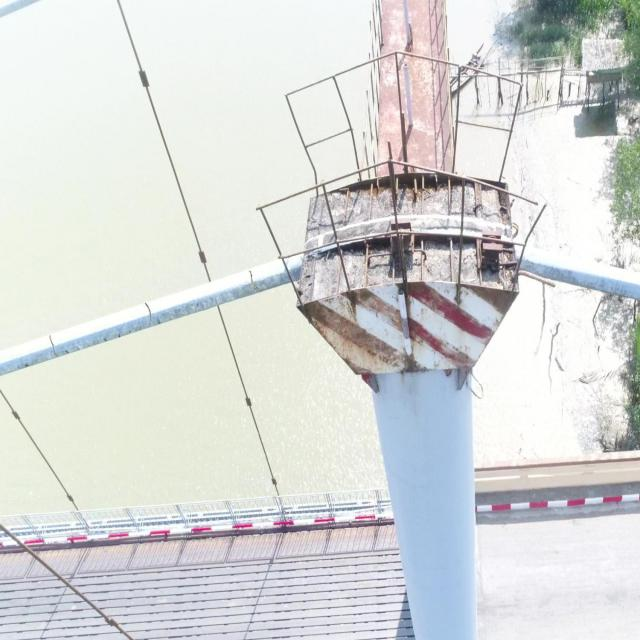crack: (248, 270, 258, 293), (144, 303, 152, 326), (49, 335, 56, 357)
